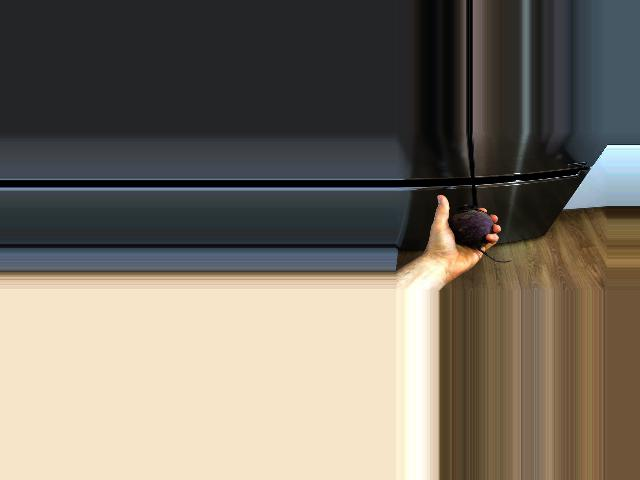beet: (449, 204, 512, 262)
